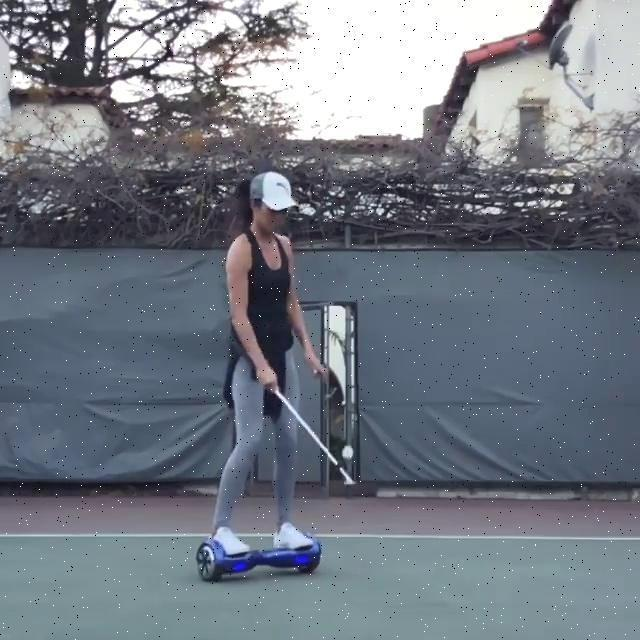ClubHead: (344, 477, 356, 487)
GolfBall: (341, 446, 354, 459)
